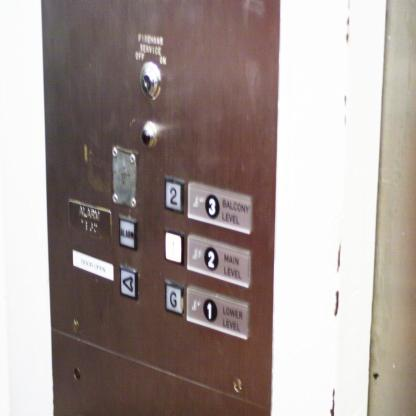1: (184, 280, 250, 348), (164, 225, 184, 270)
2: (187, 230, 252, 296), (161, 170, 186, 219)
3: (187, 181, 254, 233)
G: (162, 276, 186, 322)
indicator: (138, 58, 163, 103), (140, 117, 160, 153)
text: (66, 194, 113, 248), (116, 216, 140, 254)
unknown: (117, 260, 139, 302)
